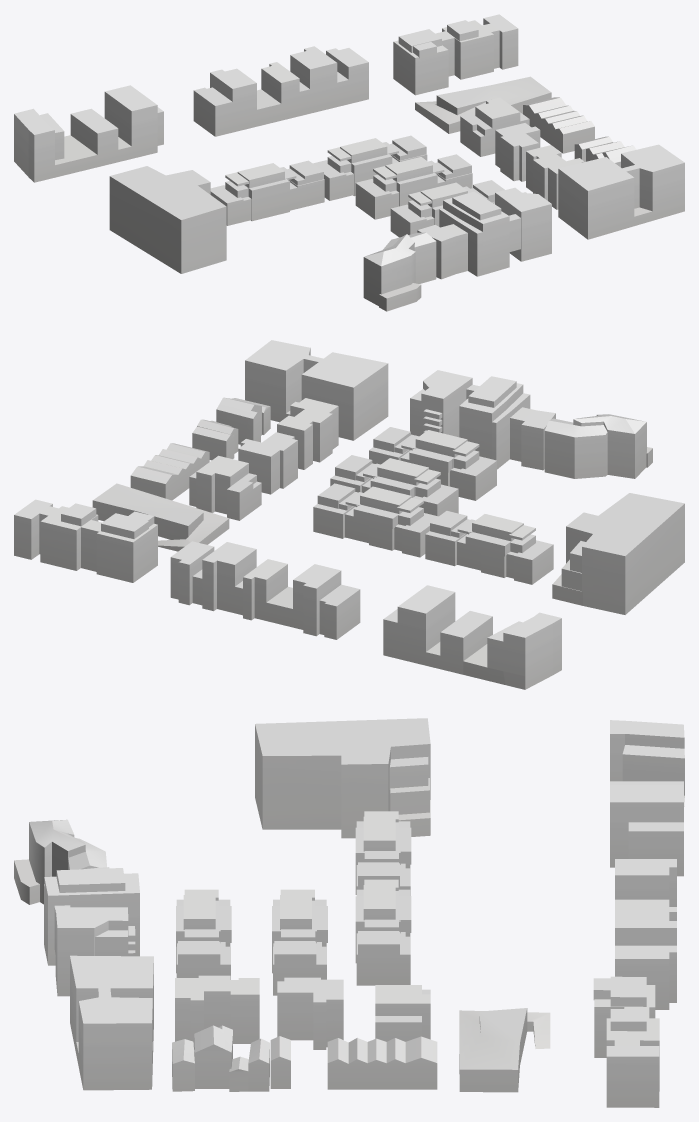
File: Blockout_Test_02.fbx
The picture shows the model from 3 angles, top to bottom: view 1: azimuth 30°, elevation 25°; view 2: azimuth 150°, elevation 25°; view 3: azimuth 270°, elevation 25°; orthographic projection. The views are drawn at different scales.
Visible parts, largest first — view 1: BlockoutBuilding_10, BlockoutBuilding_09.001, BlockoutBuilding_10.002, BlockoutBuilding_08, BlockoutBuilding_05, BlockoutBuilding_10.001, BlockoutBuilding_09, BlockoutBuilding_06, BlockoutBuilding_03, BlockoutBuilding_07, BlockoutBuilding_02, BlockoutBuilding_11 (+4 smaller); view 2: BlockoutBuilding_10, BlockoutBuilding_10.002, BlockoutBuilding_09.001, BlockoutBuilding_08, BlockoutBuilding_05, BlockoutBuilding_10.001, BlockoutBuilding_09, BlockoutBuilding_02, BlockoutBuilding_06, BlockoutBuilding_07, BlockoutBuilding_04, BlockoutBuilding_11 (+4 smaller); view 3: BlockoutBuilding_09.001, BlockoutBuilding_08, BlockoutBuilding_10.002, BlockoutBuilding_07, BlockoutBuilding_05, BlockoutBuilding_10, BlockoutBuilding_10.001, BlockoutBuilding_13, BlockoutBuilding_11, BlockoutBuilding_02, BlockoutBuilding_12, BlockoutBuilding_03 (+4 smaller).
Part boxes in pixels (<box>): BlockoutBuilding_10: <box>193,46,368,136</box>; BlockoutBuilding_09.001: <box>109,166,226,273</box>; BlockoutBuilding_10.002: <box>14,85,163,182</box>; BlockoutBuilding_08: <box>558,144,684,239</box>; BlockoutBuilding_05: <box>417,187,551,279</box>; BlockoutBuilding_10.001: <box>393,14,518,95</box>; BlockoutBuilding_09: <box>210,160,324,225</box>; BlockoutBuilding_06: <box>363,232,436,311</box>; BlockoutBuilding_03: <box>355,154,472,219</box>; BlockoutBuilding_07: <box>495,123,584,209</box>; BlockoutBuilding_02: <box>313,135,427,200</box>; BlockoutBuilding_11: <box>415,76,551,133</box>; BlockoutBuilding_10: <box>170,541,360,639</box>; BlockoutBuilding_10.002: <box>383,585,561,689</box>; BlockoutBuilding_09.001: <box>552,493,684,614</box>; BlockoutBuilding_08: <box>245,340,388,440</box>; BlockoutBuilding_05: <box>410,370,555,470</box>; BlockoutBuilding_10.001: <box>14,499,157,582</box>; BlockoutBuilding_09: <box>425,511,553,584</box>; BlockoutBuilding_02: <box>313,483,438,557</box>; BlockoutBuilding_06: <box>544,414,652,478</box>; BlockoutBuilding_07: <box>238,398,338,494</box>; BlockoutBuilding_04: <box>369,427,496,500</box>; BlockoutBuilding_11: <box>92,483,229,551</box>; BlockoutBuilding_09.001: <box>255,718,430,838</box>; BlockoutBuilding_08: <box>70,955,153,1090</box>; BlockoutBuilding_10.002: <box>610,720,684,876</box>; BlockoutBuilding_07: <box>175,975,343,1049</box>; BlockoutBuilding_05: <box>44,867,139,996</box>; BlockoutBuilding_10: <box>615,859,676,1009</box>; BlockoutBuilding_10.001: <box>593,976,659,1107</box>; BlockoutBuilding_13: <box>172,1025,290,1091</box>; BlockoutBuilding_11: <box>459,1008,550,1092</box>; BlockoutBuilding_02: <box>355,879,411,985</box>; BlockoutBuilding_12: <box>327,1036,437,1089</box>; BlockoutBuilding_03: <box>272,889,327,995</box>.
Size of the model in its own units: 28767 by 3357 by 25286.
